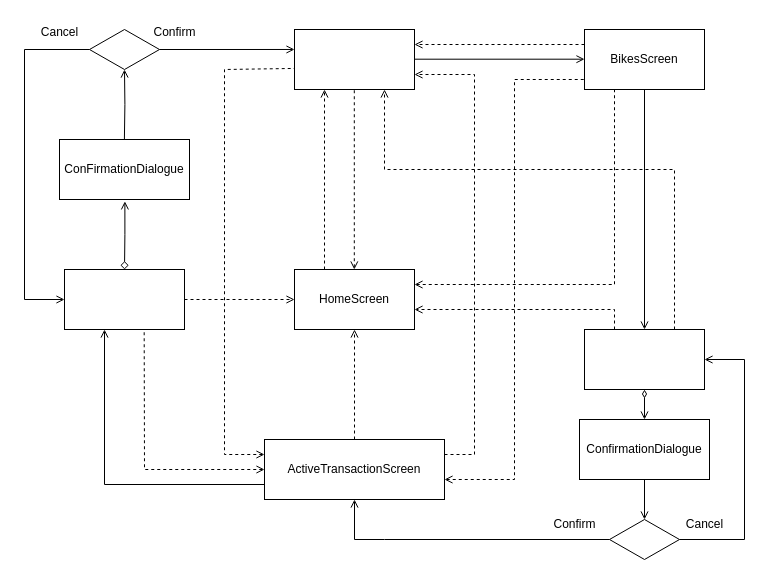
Image size: 770x577. Some labels were removed from this diagram. Each missing label, with the centre of its shape:
"DepositScreen" belongs at (644,359).
"DocksScreen" belongs at (354,59).
"PaymentScreen" belongs at (124,299).
